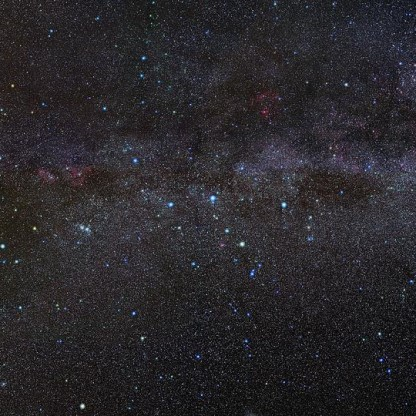Cassiopeia: (221, 224, 253, 258), (267, 192, 297, 220), (122, 143, 148, 173), (155, 192, 180, 218), (201, 184, 223, 205)
